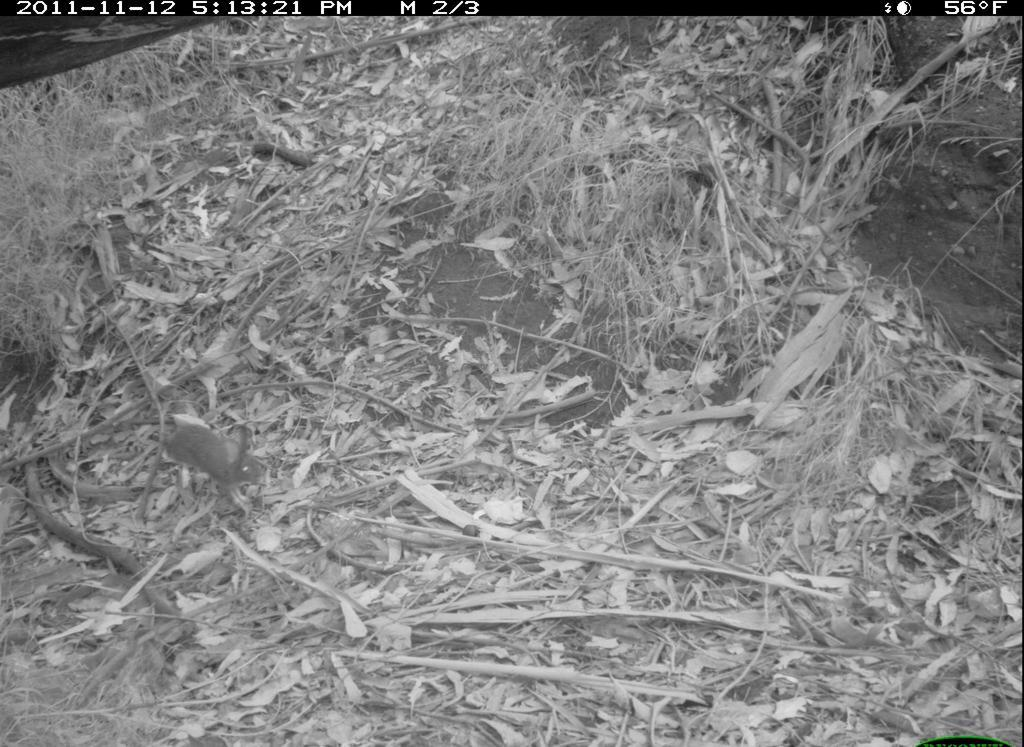rabbit: (154, 408, 272, 514)
